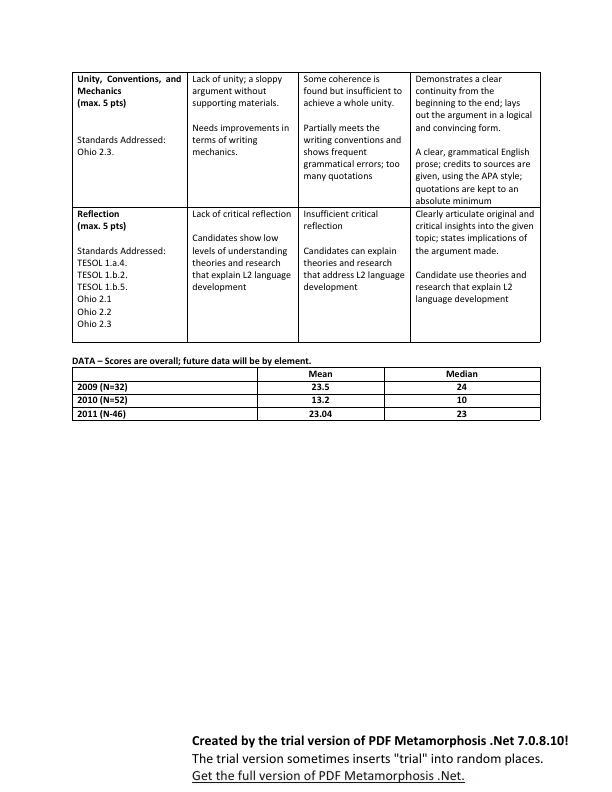table: (67, 66, 547, 349), (68, 366, 549, 429)
text: (186, 725, 578, 789), (68, 351, 313, 367)
